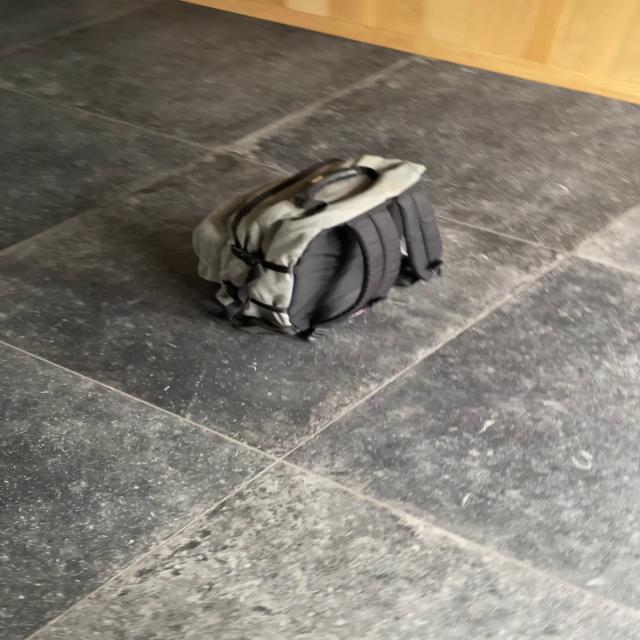backpack: (178, 150, 450, 336)
